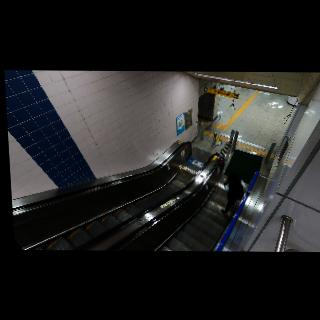normal: (219, 173, 254, 217)
